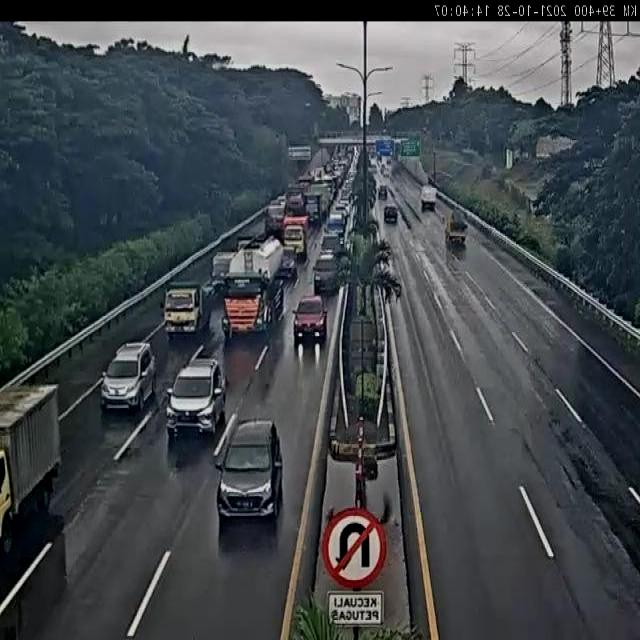Car: (208, 416, 298, 537), (156, 359, 234, 452), (94, 343, 152, 413), (291, 298, 334, 347), (311, 254, 338, 289), (381, 198, 405, 229)
Truck: (0, 385, 72, 530), (216, 231, 286, 338), (162, 266, 220, 337), (282, 215, 310, 255), (446, 209, 472, 245), (418, 183, 443, 212)
